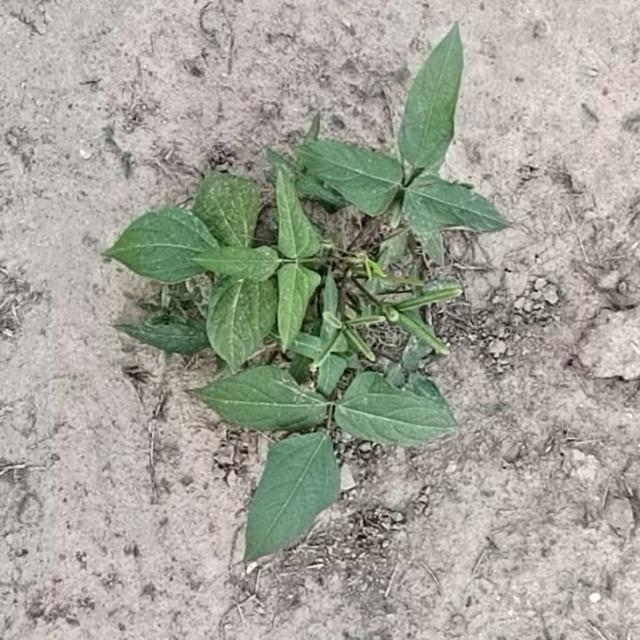plant: (105, 26, 506, 561)
